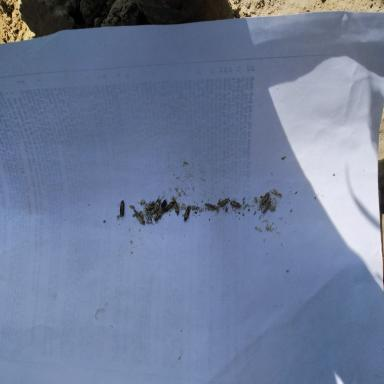pbw: (262, 196, 274, 214), (152, 195, 162, 214), (116, 200, 125, 221), (172, 195, 179, 216), (260, 192, 270, 206), (183, 205, 191, 222), (153, 208, 163, 221), (164, 201, 174, 212), (136, 214, 145, 226), (230, 198, 240, 208), (219, 198, 230, 207), (204, 203, 218, 209), (273, 189, 282, 197), (133, 209, 140, 216), (129, 204, 135, 209), (269, 190, 275, 194)
